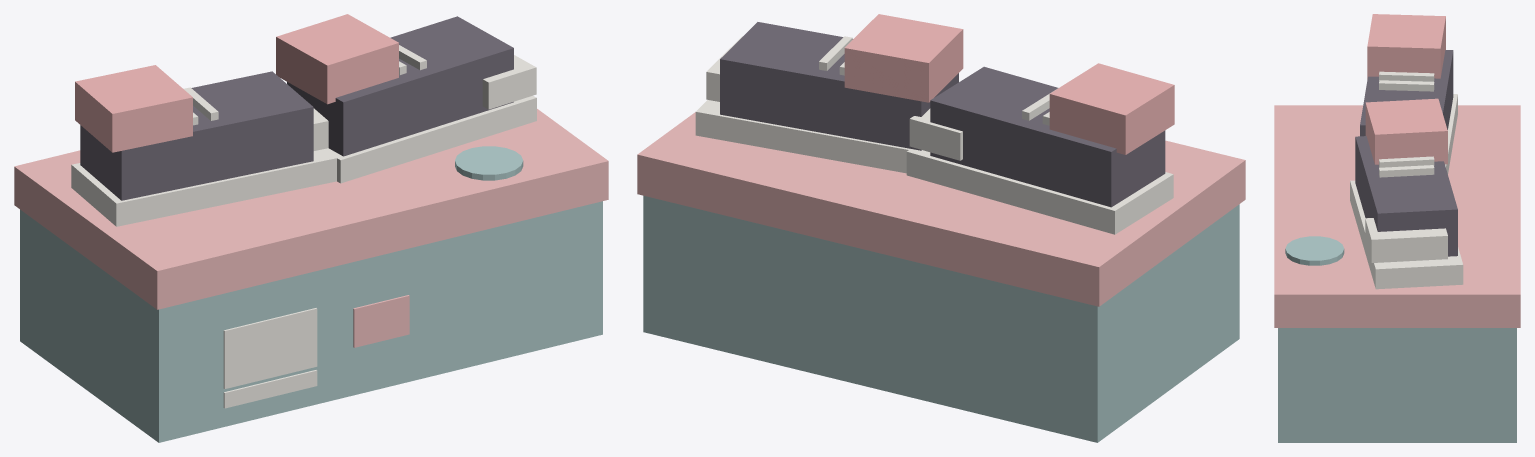
Rendered from item_86_shoe_box.glb.
3 views of the same model, side by side, from view 1: azimuth 30°, elevation 25°; view 2: azimuth 150°, elevation 25°; view 3: azimuth 270°, elevation 25° (orthographic). The views are drawn at different scales.
Visible parts, largest first — view 1: I86_Box, I86_Lid, I86_Upper0, I86_Upper1, I86_Collar0, I86_Collar1, I86_Sole0, I86_Label, I86_Sole1, I86_LabelPatch, I86_FingerHole, I86_Toe1 (+2 smaller); view 2: I86_Box, I86_Lid, I86_Upper0, I86_Upper1, I86_Collar1, I86_Collar0, I86_Sole0, I86_Sole1, I86_Toe0; view 3: I86_Lid, I86_Box, I86_Upper1, I86_Collar1, I86_Collar0, I86_Sole1, I86_Toe1, I86_Upper0, I86_FingerHole, I86_Lace02, I86_Lace12, I86_Lace11 (+2 smaller).
Part boxes in pixels (x1,y1,x2,y2): I86_Box: (20, 201, 602, 442); I86_Lid: (14, 109, 608, 309); I86_Upper0: (80, 71, 313, 200); I86_Upper1: (287, 16, 513, 156); I86_Collar0: (75, 65, 192, 152); I86_Collar1: (276, 14, 398, 104); I86_Sole0: (71, 149, 336, 226); I86_Label: (223, 308, 317, 388); I86_Sole1: (322, 95, 536, 183); I86_LabelPatch: (353, 295, 409, 347); I86_FingerHole: (455, 146, 523, 180); I86_Toe1: (482, 55, 536, 109); I86_Box: (643, 195, 1239, 442); I86_Lid: (637, 112, 1245, 306); I86_Upper0: (930, 66, 1165, 207); I86_Upper1: (720, 22, 958, 150); I86_Collar1: (844, 14, 963, 102); I86_Collar0: (1049, 63, 1174, 154); I86_Sole0: (906, 149, 1173, 234); I86_Sole1: (695, 100, 910, 173); I86_Toe0: (909, 108, 962, 160); I86_Lid: (1274, 105, 1520, 327); I86_Box: (1278, 328, 1516, 442); I86_Upper1: (1355, 136, 1457, 256); I86_Collar1: (1365, 98, 1447, 164); I86_Collar0: (1367, 14, 1445, 79); I86_Sole1: (1350, 180, 1463, 289); I86_Toe1: (1365, 218, 1447, 262); I86_Upper0: (1360, 50, 1453, 136); I86_FingerHole: (1285, 236, 1344, 265); I86_Lace02: (1379, 80, 1434, 91); I86_Lace12: (1379, 165, 1434, 177); I86_Lace11: (1379, 156, 1434, 167).
Size of the model in its own units: 0.244 by 0.148 by 0.134.
